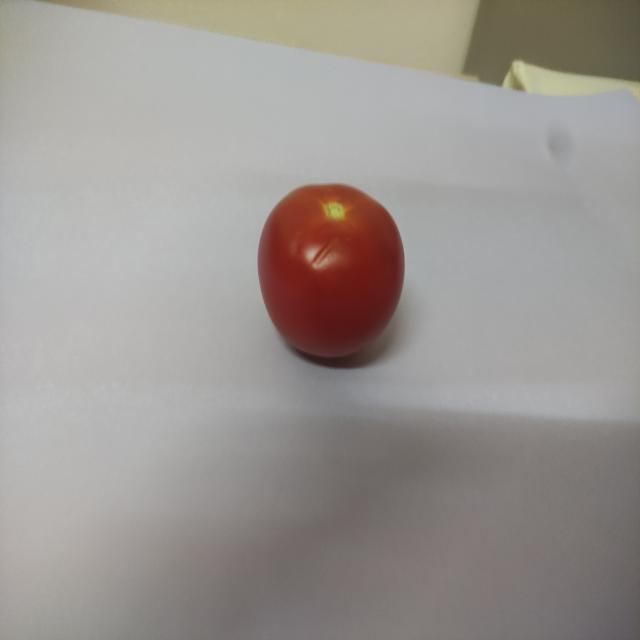kirmizi: (239, 172, 425, 372)
